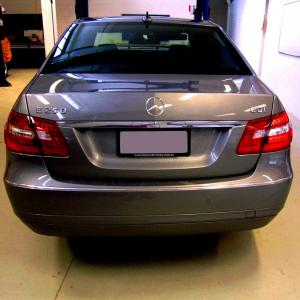Vehicle-registration-plate: (118, 129, 192, 158)
